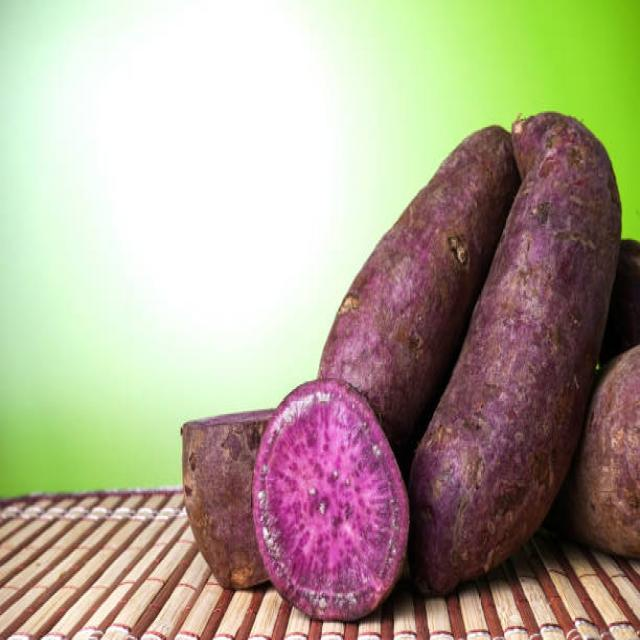Sweet Potato: (318, 124, 511, 355), (410, 346, 580, 596), (257, 382, 403, 621), (511, 103, 619, 354)
